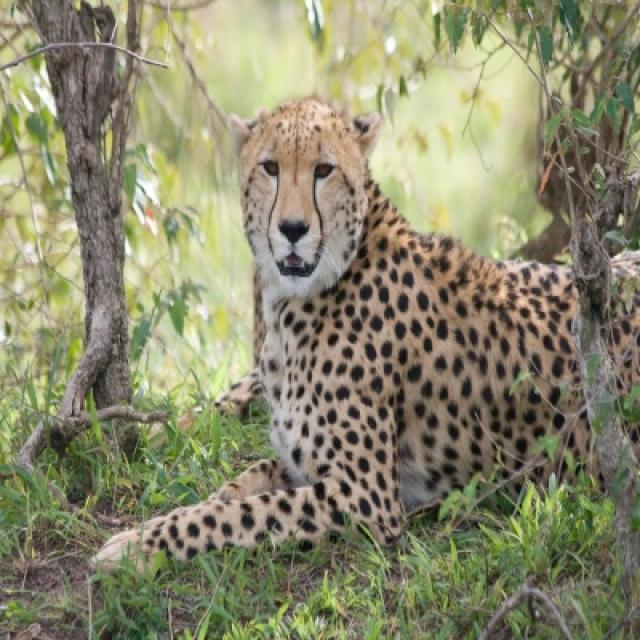Cheetah: (95, 99, 638, 581)
